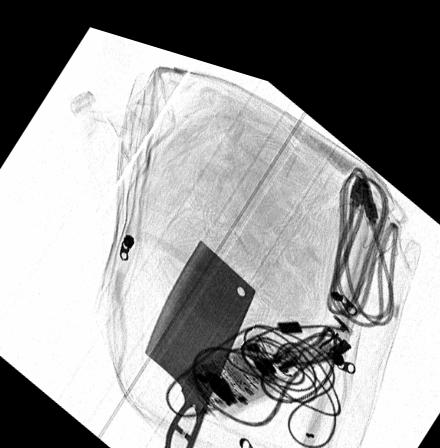Knife: (142, 226, 256, 448)
